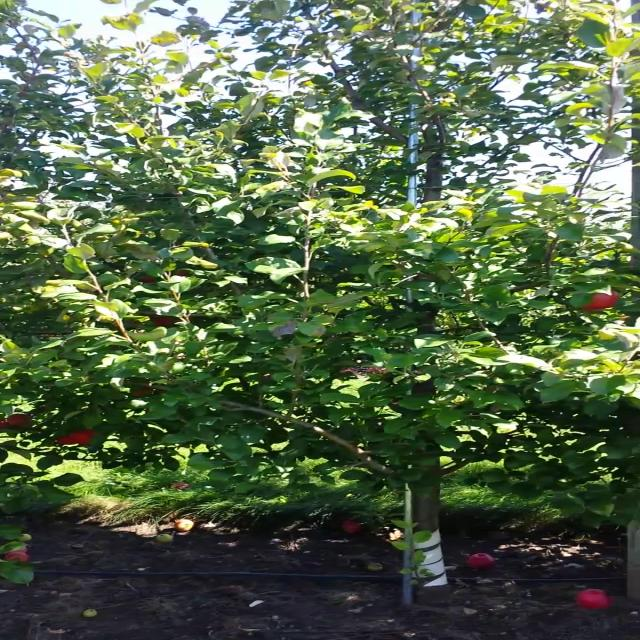apple: (584, 293, 619, 311), (3, 412, 34, 430), (74, 429, 98, 443), (151, 316, 176, 326), (131, 387, 153, 397), (58, 432, 76, 444), (138, 276, 156, 283)
